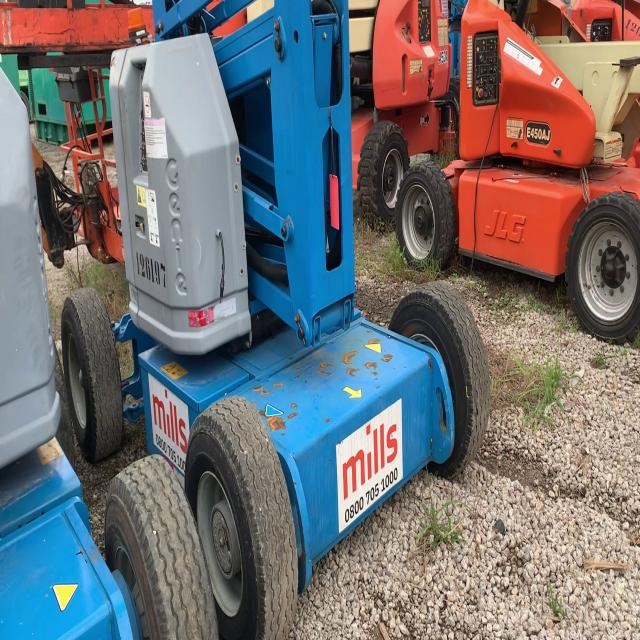Adesivos: (335, 395, 404, 535)
